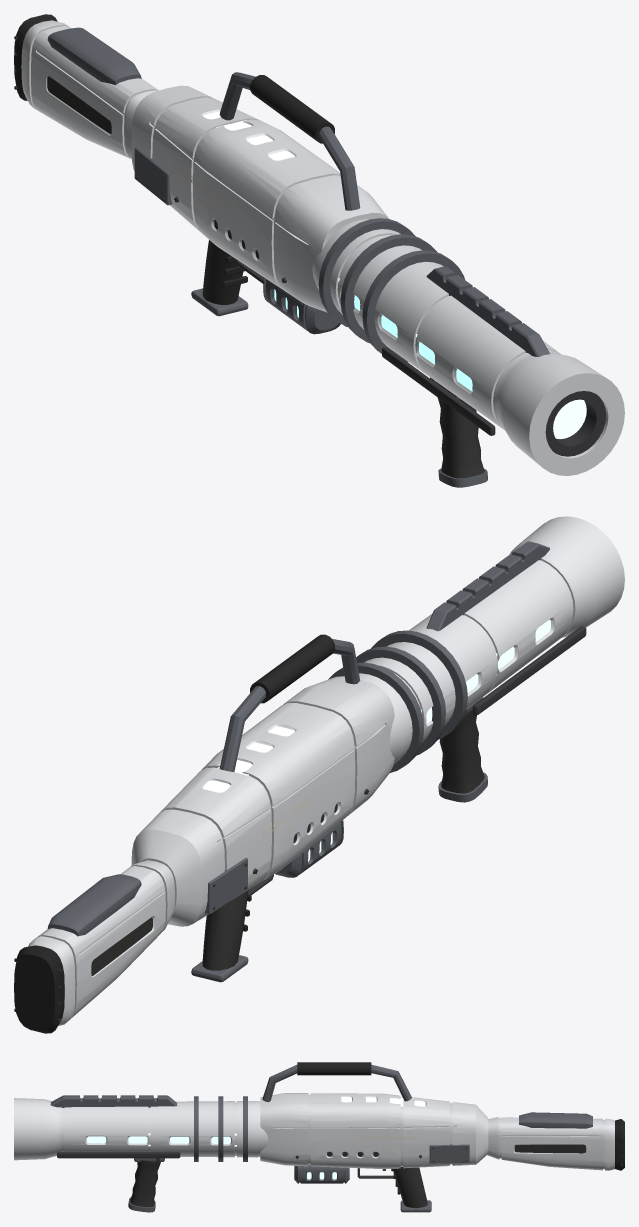
The model's file is plasmacannon.glb.
3 views of the same model, one above another, from view 1: azimuth 30°, elevation 25°; view 2: azimuth 150°, elevation 25°; view 3: azimuth 270°, elevation 25° (orthographic). The views are drawn at different scales.
Parts seen in each view (by area): view 1: Body; view 2: Body; view 3: Body.
Boxes of the visible parts, left/top/right/bottom form: Body: left=14, top=14, right=624, bottom=487; Body: left=14, top=516, right=624, bottom=1033; Body: left=14, top=1062, right=624, bottom=1212.
Size of the model in its own units: 0.1067 by 0.2607 by 0.992.
